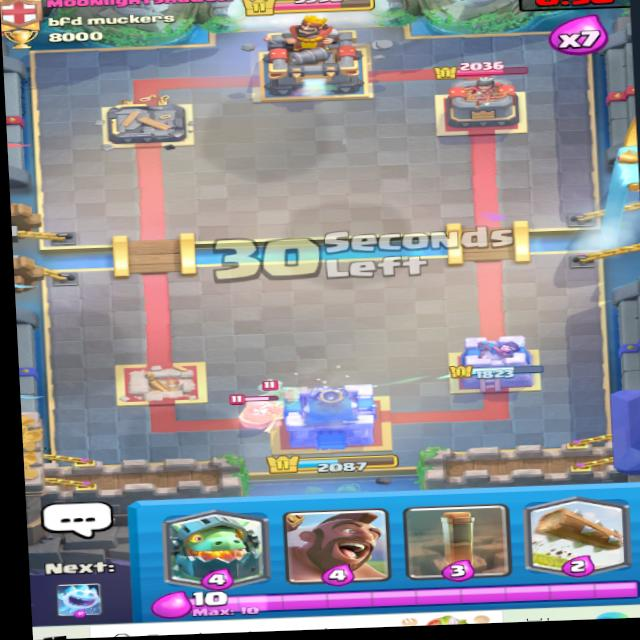monk: (226, 390, 288, 435)
monk-ability: (233, 391, 296, 435)
